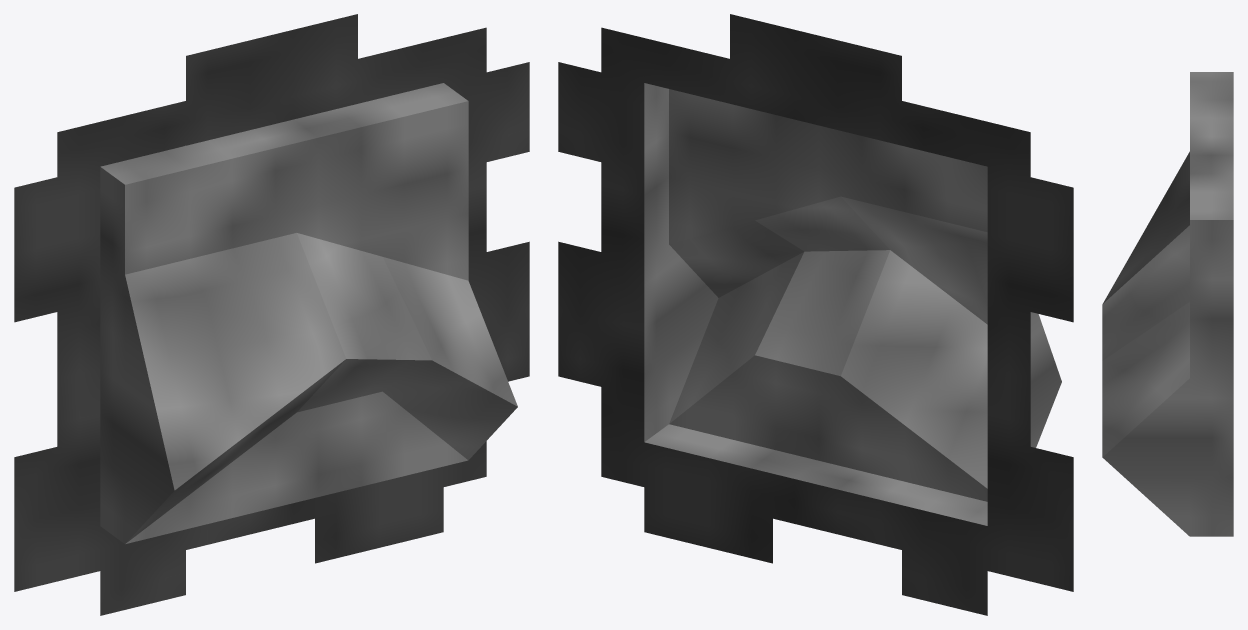
Rendered from tile_dust.fbx.
3 views of the same model, side by side, from view 1: azimuth 30°, elevation 25°; view 2: azimuth 150°, elevation 25°; view 3: azimuth 270°, elevation 25° (orthographic). The views are drawn at different scales.
Parts seen in each view (by area): view 1: tile_dust; view 2: tile_dust; view 3: tile_dust.
Boxes of the visible parts, left/top/right/bottom form: tile_dust: left=14, top=14, right=529, bottom=615; tile_dust: left=558, top=14, right=1073, bottom=615; tile_dust: left=1102, top=72, right=1233, bottom=536.
Size of the model in its own units: 0.375 by 1.5 by 1.5.
